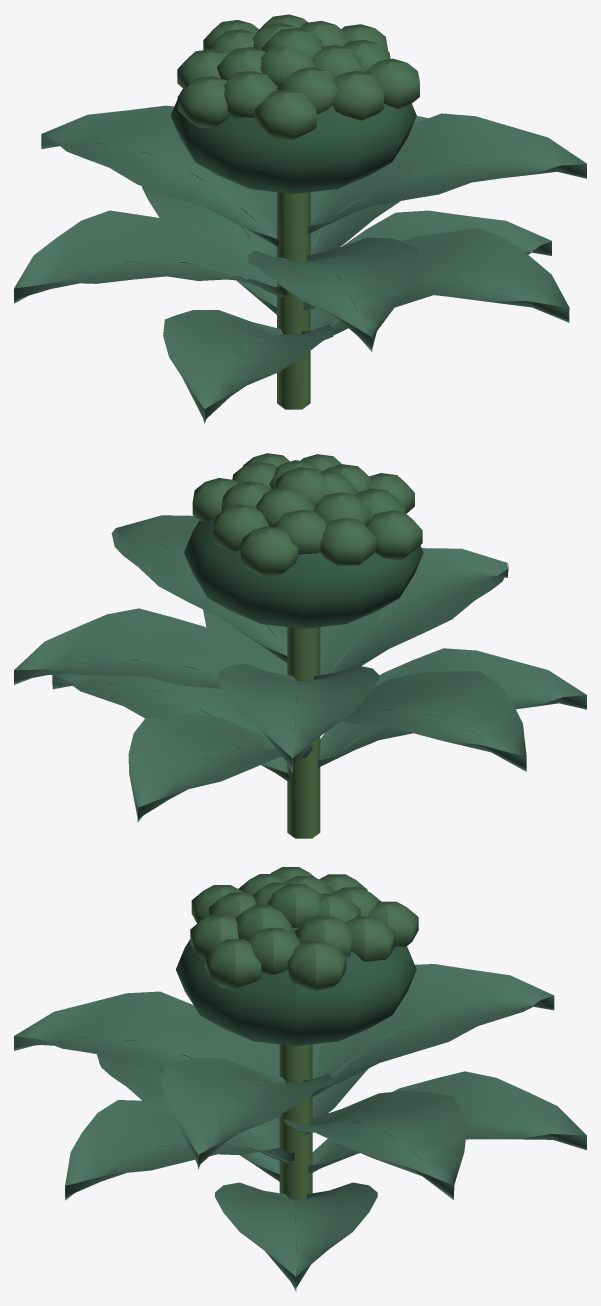
The model's file is brocoli.glb.
3 views of the same model, one above another, from view 1: azimuth 30°, elevation 25°; view 2: azimuth 150°, elevation 25°; view 3: azimuth 270°, elevation 25° (orthographic). The views are drawn at different scales.
Visible parts, largest first — view 1: brocoli; view 2: brocoli; view 3: brocoli.
Boxes of the visible parts, x1=… form: brocoli: x1=14, y1=14, x2=586, y2=423; brocoli: x1=14, y1=453, x2=586, y2=838; brocoli: x1=14, y1=867, x2=586, y2=1291.
Size of the model in its own units: 0.9133 by 0.633 by 0.9033.
